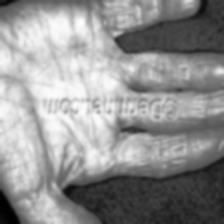Non-Cancerous Skin Condition: (32, 9, 88, 82), (2, 138, 30, 182)
